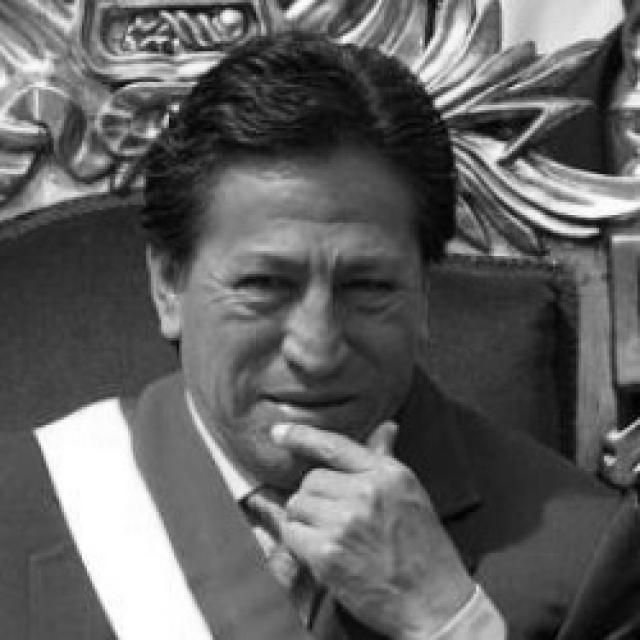real: (174, 70, 435, 490), (223, 239, 417, 319)
